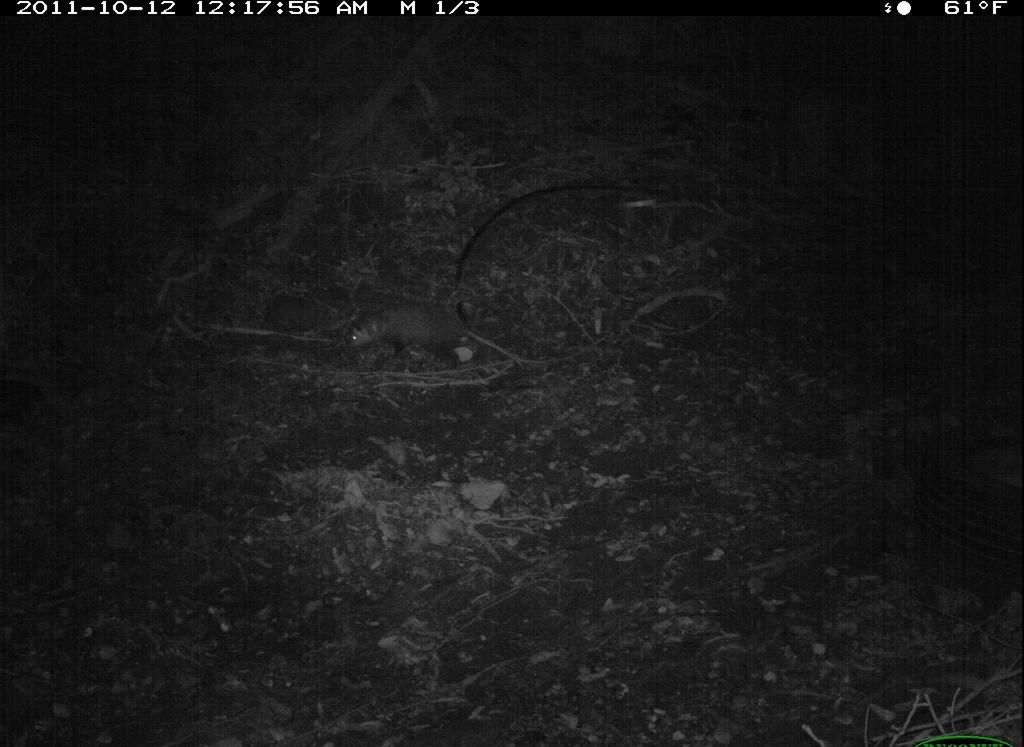opossum: (331, 289, 555, 383)
